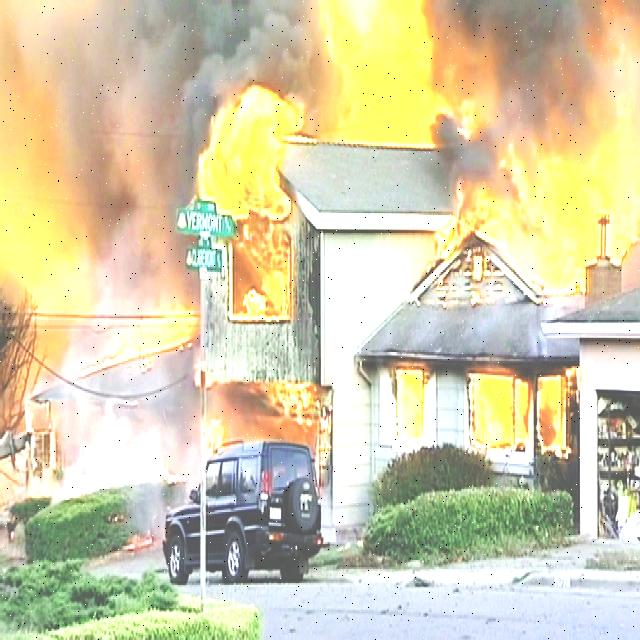api: (191, 76, 311, 232), (329, 2, 434, 140), (505, 182, 628, 294), (464, 364, 532, 458), (393, 366, 429, 450)
asap: (33, 1, 357, 499), (412, 1, 638, 259)
